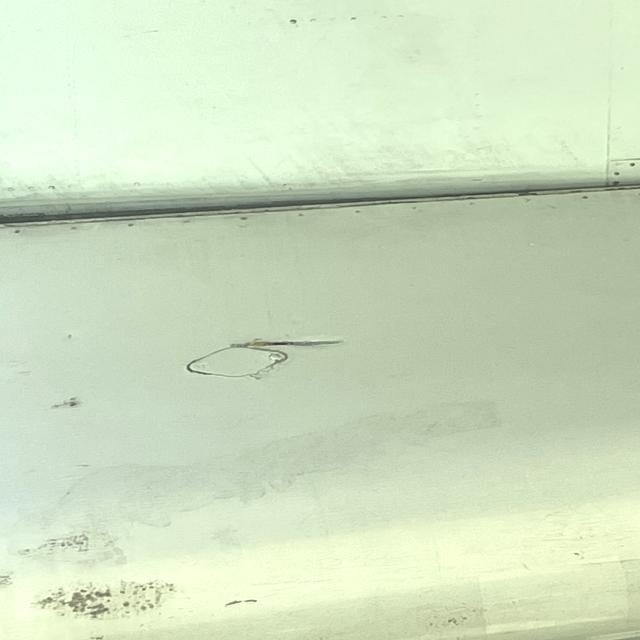crack: (232, 334, 345, 354)
